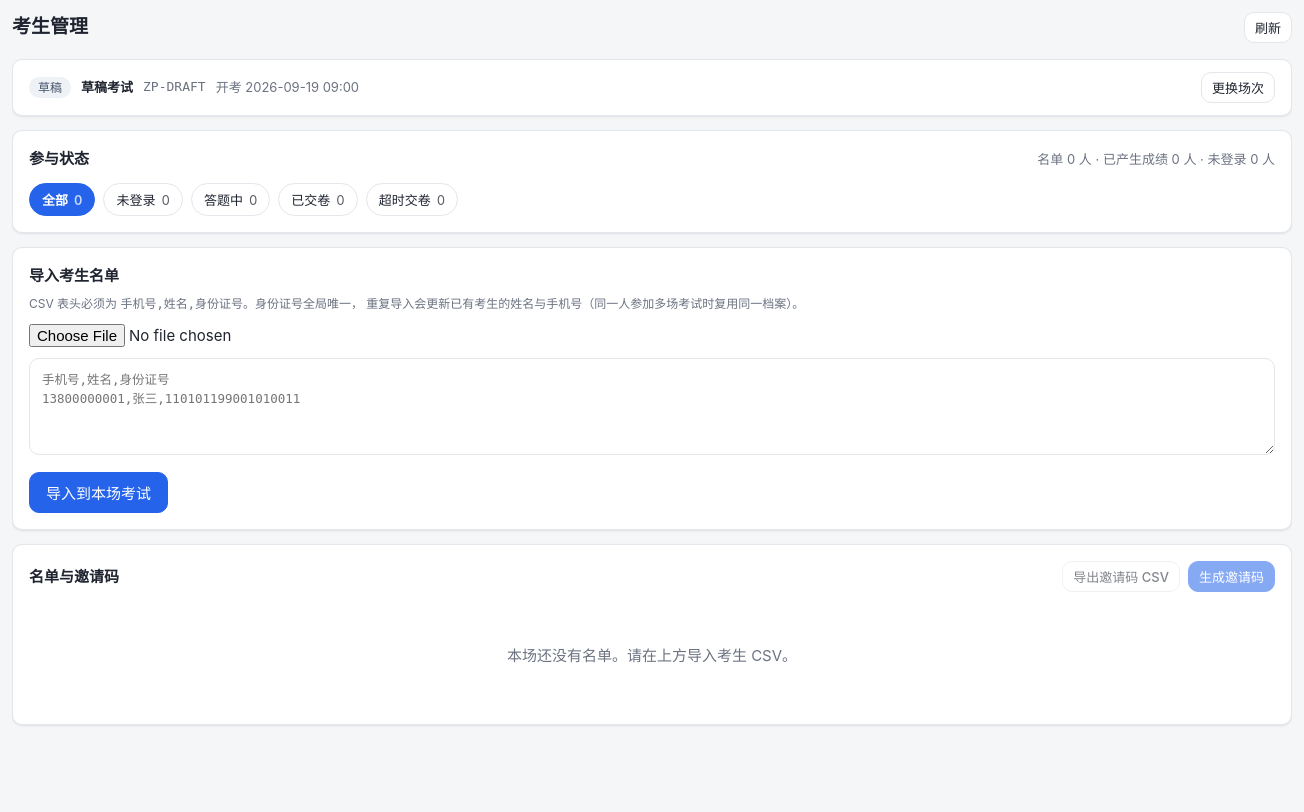
Test: 草稿场次：可导入与生成邀请码 › 空内容导入被拦截
The width and height of the screenshot is (1304, 812).
Step 1. Click the button "导入到本场考试" → (98, 493), box [29,472,168,513]
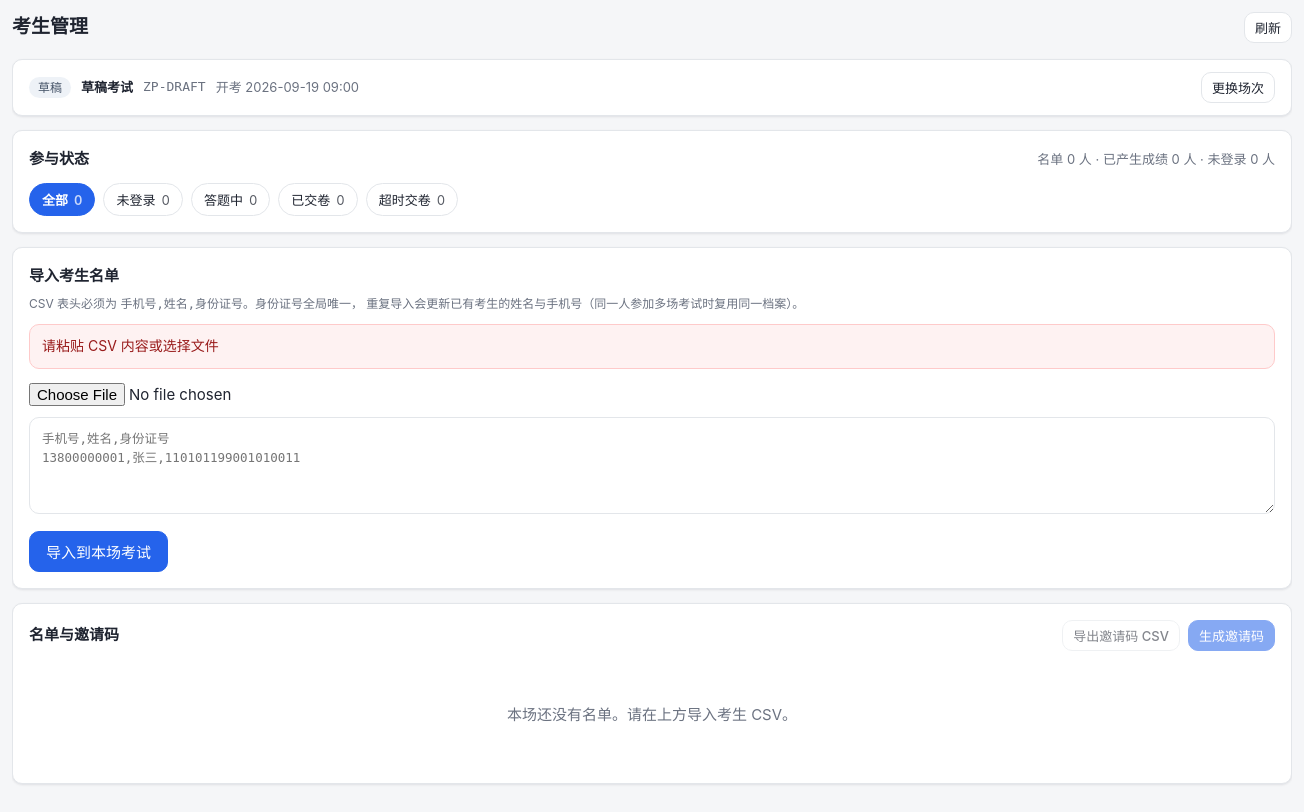
expect the text "请粘贴 CSV 内容或选择文件" is shown: met, box [29,324,1275,369]
